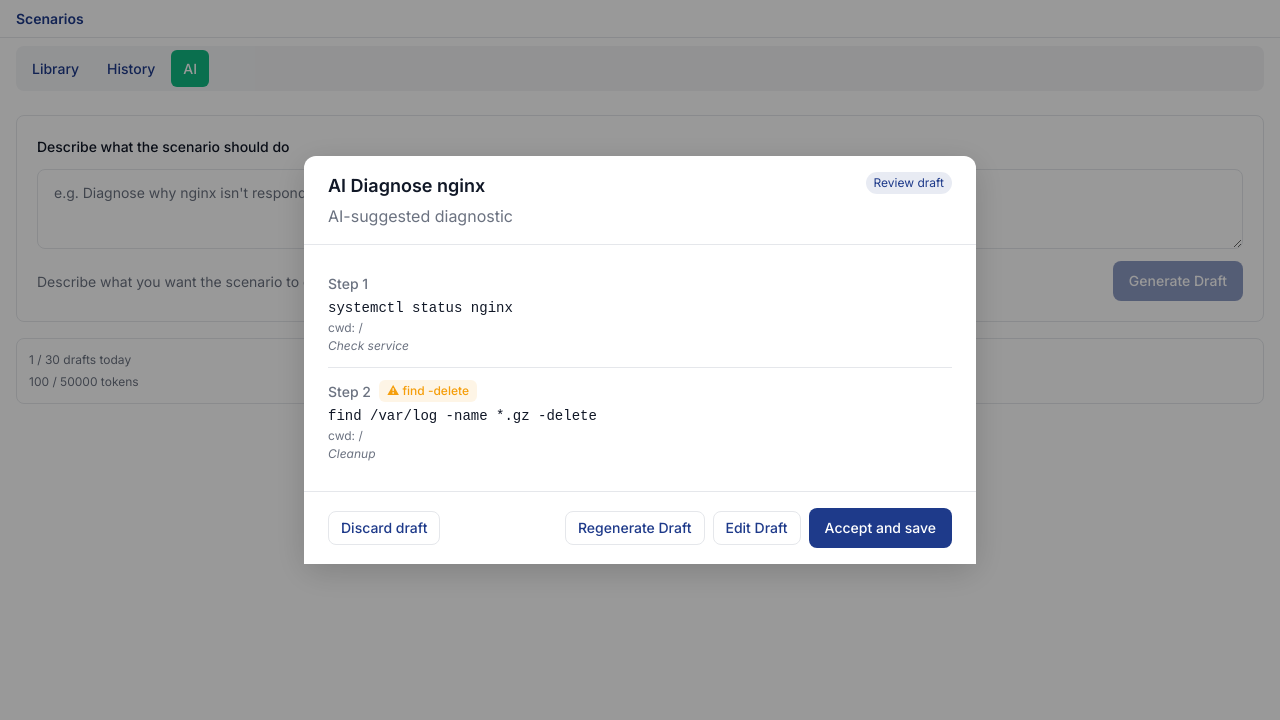
ScenariosPanel — DraftReviewModal flow › [Edit Draft] transitions to editor with prefill + backTarget=ai
The image size is (1280, 720).
Expected: the element with test id "scenarios-ai-segment" is shown, 0,99 -> 1279,420
Click the button with test id "draft-review-edit" at (757, 528), box 712,511 -> 801,545
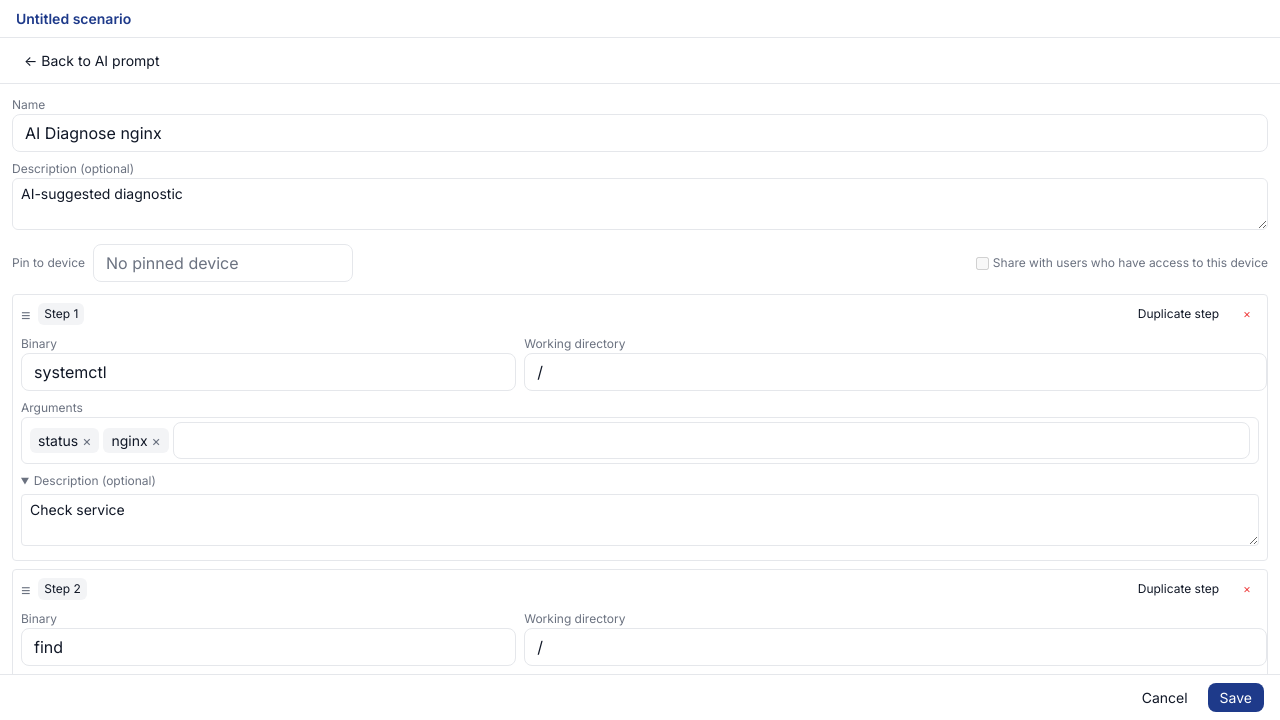
Result: the dialog with test id "draft-review-backdrop" is gone
Result: the element with test id "scenario-editor" is shown
Result: the field with test id "editor-name" holds "AI Diagnose nginx" at 12,114 -> 1268,152
